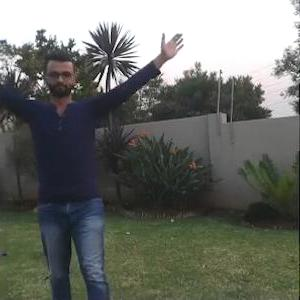takeoff: (1, 37, 171, 296)
